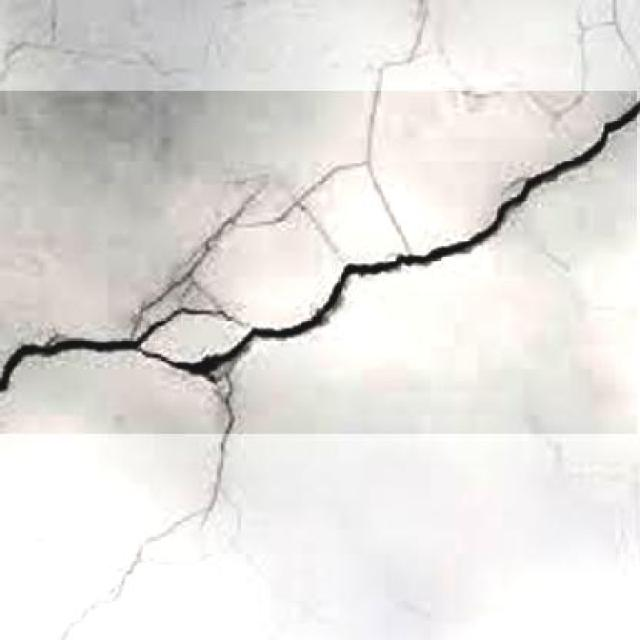Crack: (233, 221, 473, 340), (466, 84, 640, 246), (0, 313, 318, 393), (320, 7, 425, 228), (107, 131, 237, 300), (12, 555, 262, 640), (110, 426, 256, 552), (254, 143, 316, 215)
